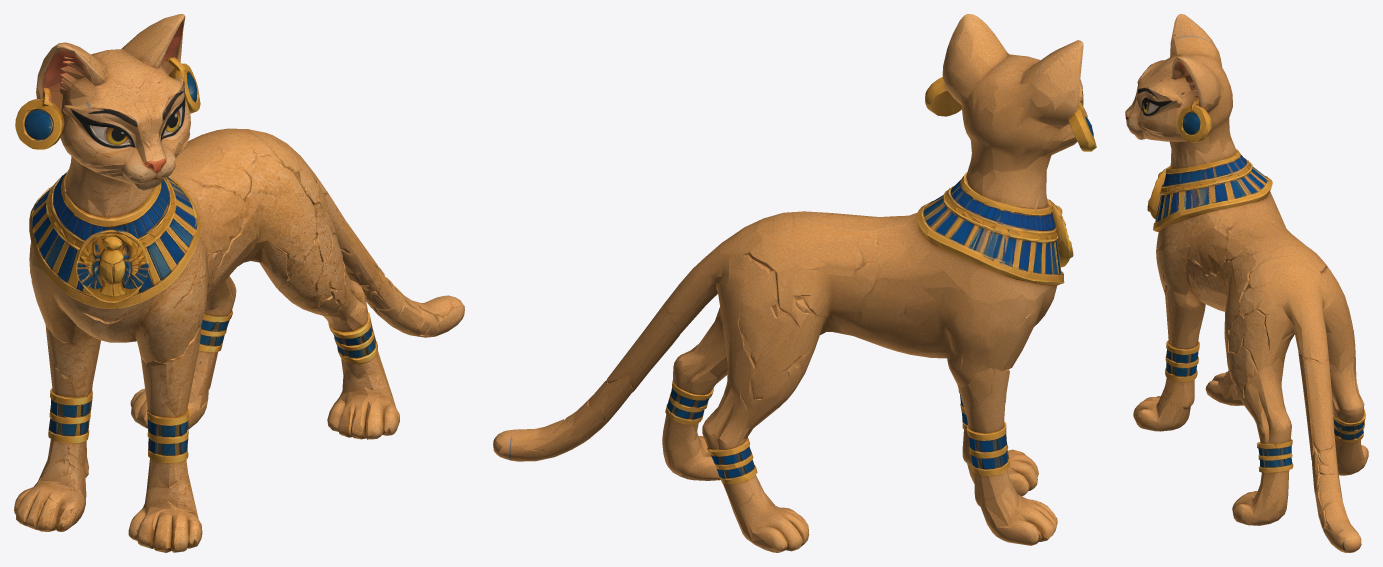
The picture shows the model from 3 angles, left to right: view 1: azimuth 30°, elevation 25°; view 2: azimuth 150°, elevation 25°; view 3: azimuth 270°, elevation 25°; orthographic projection. The views are drawn at different scales.
Visible parts, largest first — view 1: Mesh_0; view 2: Mesh_0; view 3: Mesh_0.
Boxes of the visible parts, box(x1,y1,x2,y2) form: Mesh_0: box(14, 14, 464, 552); Mesh_0: box(493, 14, 1096, 552); Mesh_0: box(1125, 14, 1368, 552).
Size of the model in its own units: 1.9 by 1.7 by 0.9981.
1 material, 1 textured.
